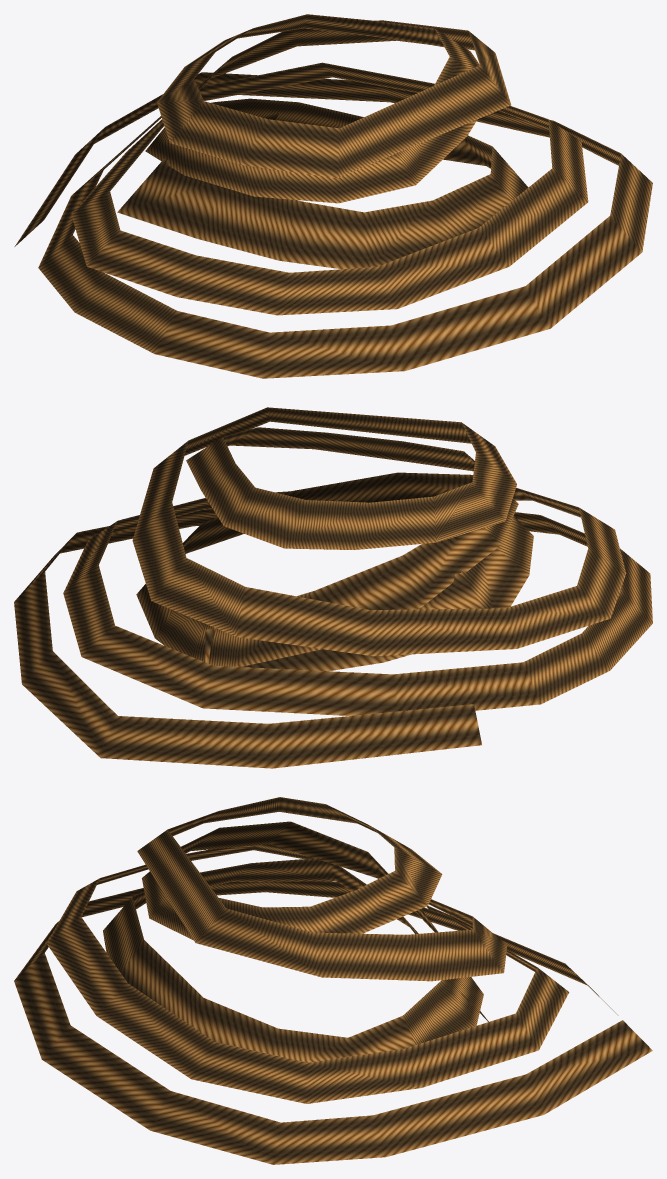
Rendered from Rope block.FBX.
The picture shows the model from 3 angles, top to bottom: view 1: azimuth 30°, elevation 25°; view 2: azimuth 150°, elevation 25°; view 3: azimuth 270°, elevation 25°; orthographic projection. The views are drawn at different scales.
Parts seen in each view (by area): view 1: Rope block; view 2: Rope block; view 3: Rope block.
Part boxes in pixels (left/top/right/bottom): Rope block: left=14, top=14, right=652, bottom=378; Rope block: left=14, top=407, right=652, bottom=768; Rope block: left=14, top=797, right=652, bottom=1164.
Size of the model in its own units: 32.3 by 33.77 by 9.99.
